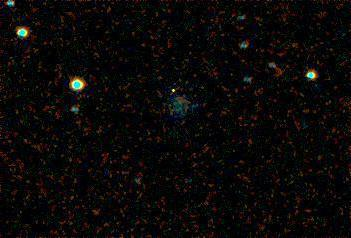star: (159, 74, 189, 104)
